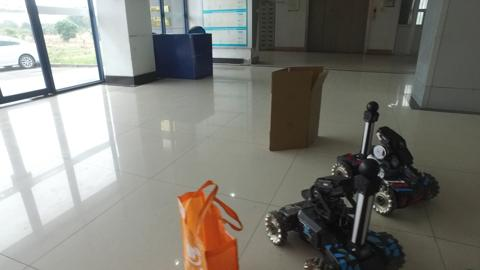bag: (174, 179, 238, 270)
box: (271, 64, 319, 151)
chariot: (260, 158, 414, 270), (333, 100, 442, 208)
